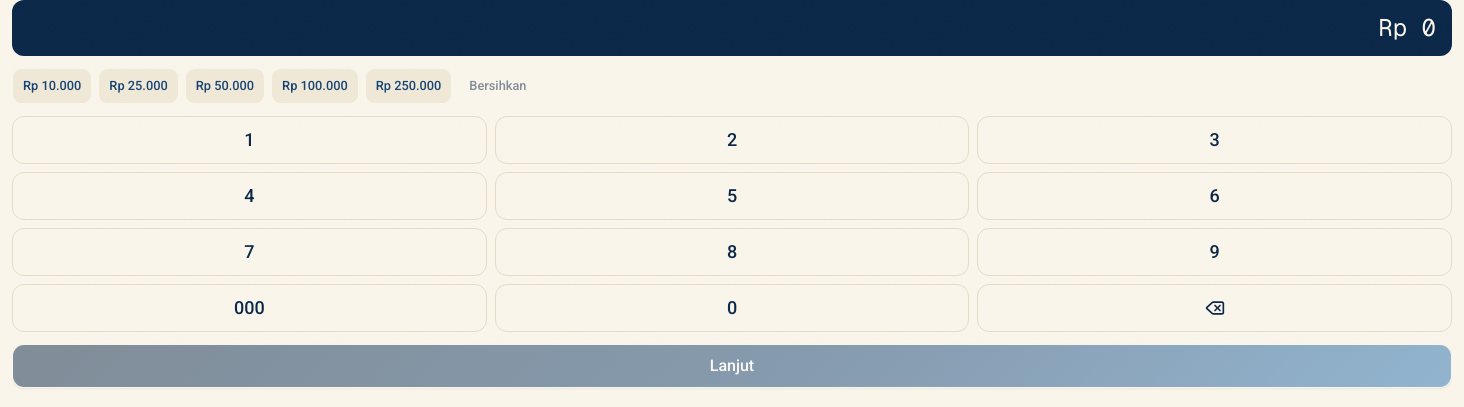
AmountKeypad clear and prefill › clears the whole amount and disables 'Lanjut' again
The image size is (1464, 407).
Click the button "Rp 50.000". click: (225, 86)
box: [185, 68, 265, 104]
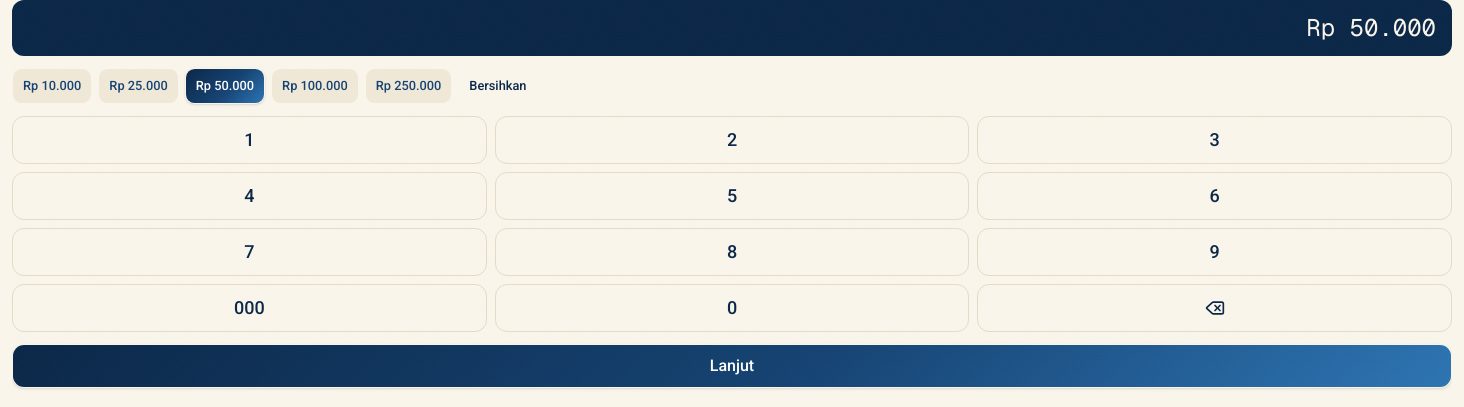
Click the button with aria-label "Bersihkan jumlah". click: (498, 86)
box: [458, 68, 537, 104]
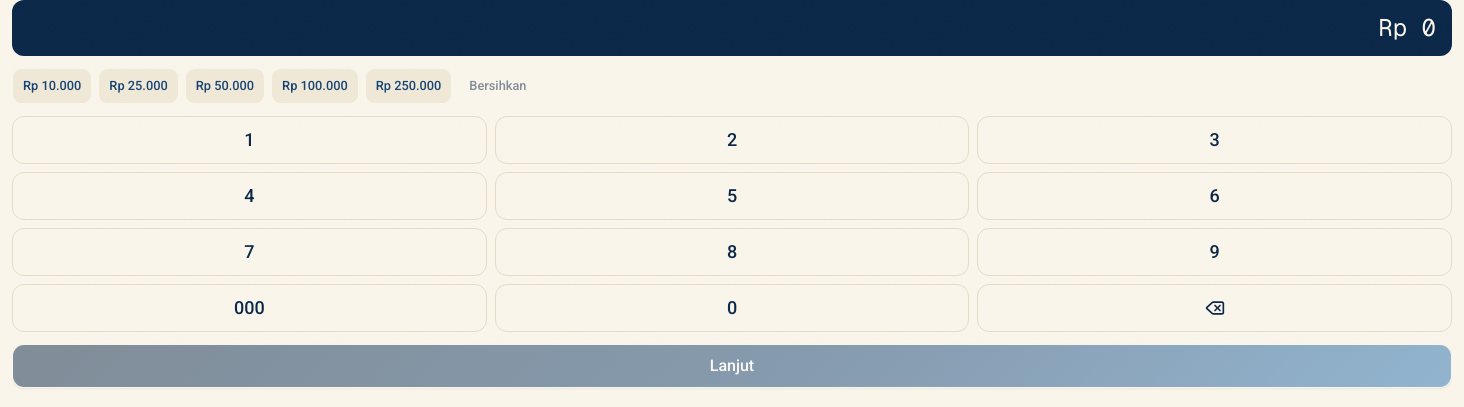
Expected: the text "Rp 0" is shown, [12, 0, 1452, 56]
Expected: the button "Lanjut" is disabled, [12, 344, 1452, 388]
